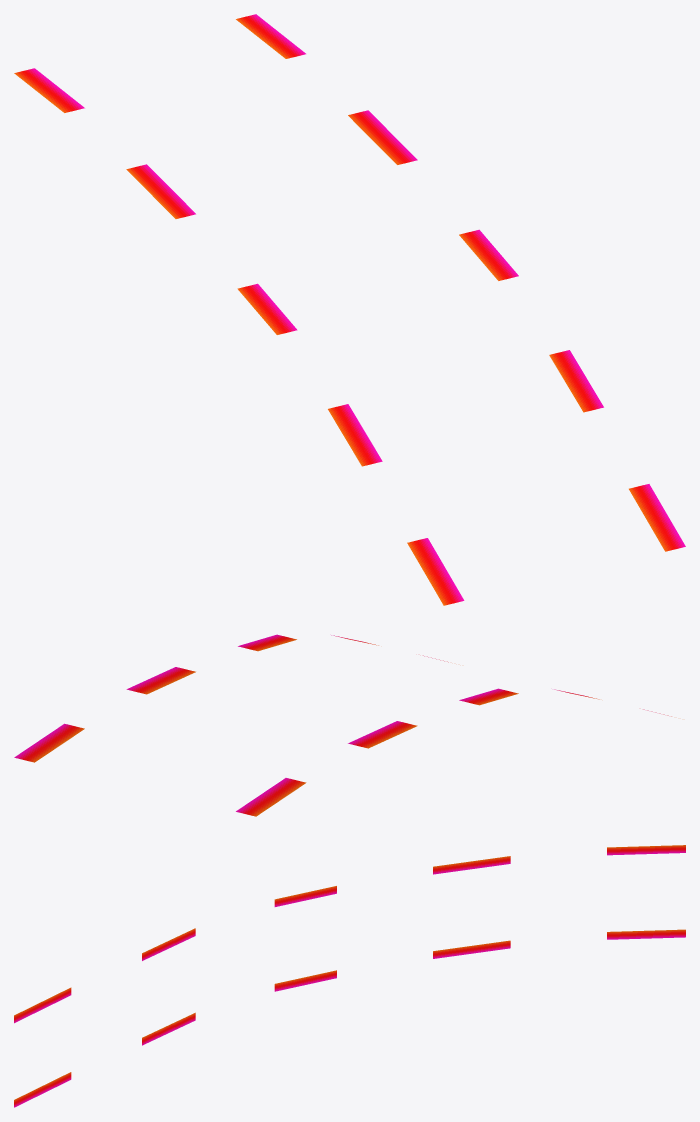
3 renders of one model, top to bottom at view 1: azimuth 30°, elevation 25°; view 2: azimuth 150°, elevation 25°; view 3: azimuth 270°, elevation 25°, orthographic. The views are drawn at different scales.
Parts seen in each view (by area): view 1: polygon119.003; view 2: polygon119.003; view 3: polygon119.003.
Part boxes in pixels (x1,y1,x2,y2): polygon119.003: (14,14,685,605); polygon119.003: (14,634,671,816); polygon119.003: (14,845,685,1107).
Size of the model in its own units: 5347 by 4599 by 16436.
1 material, 1 textured.
